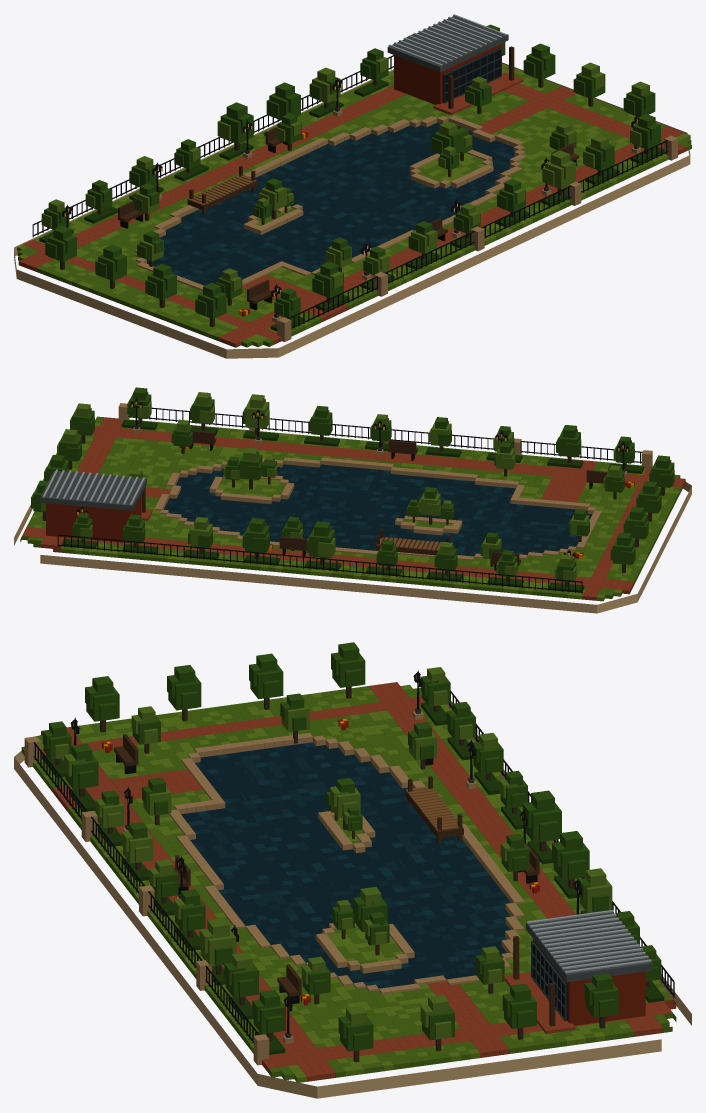
The model's file is SM_StreetFrontage_029.fbx.
3 renders of one model, top to bottom at view 1: azimuth 30°, elevation 25°; view 2: azimuth 150°, elevation 25°; view 3: azimuth 270°, elevation 25°, orthographic. The views are drawn at different scales.
Visible parts, largest first — view 1: SM_StreetFrontage_029; view 2: SM_StreetFrontage_029; view 3: SM_StreetFrontage_029.
Part boxes in pixels (<box>): SM_StreetFrontage_029: <box>14,14,691,358</box>; SM_StreetFrontage_029: <box>14,387,691,613</box>; SM_StreetFrontage_029: <box>14,642,691,1098</box>.
Bounding box in the file's own units: 80 × 56.98 × 7.09.
